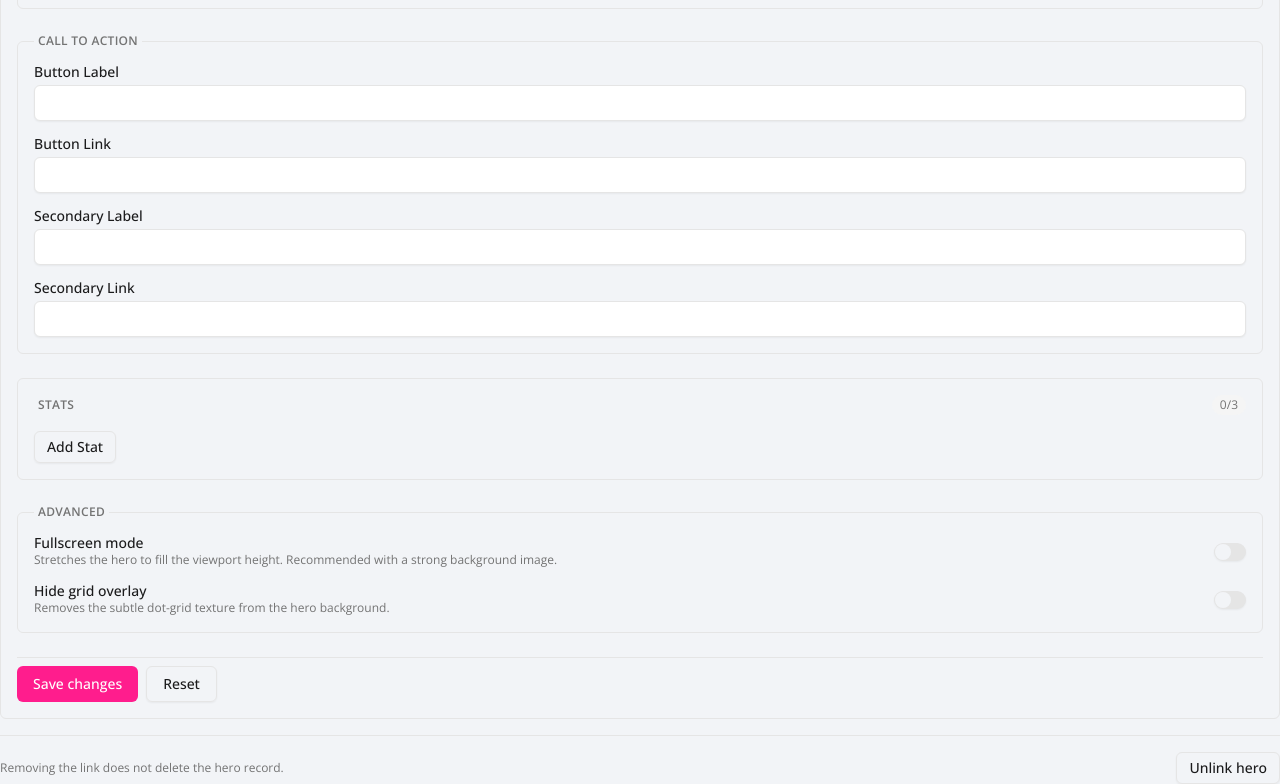
HeroPicker — when a hero is already linked › after unlinking, shows empty state
(page scrolled)
Click the button "Unlink hero": x=1228, y=768 [1176, 752, 1279, 783]
(page scrolled)
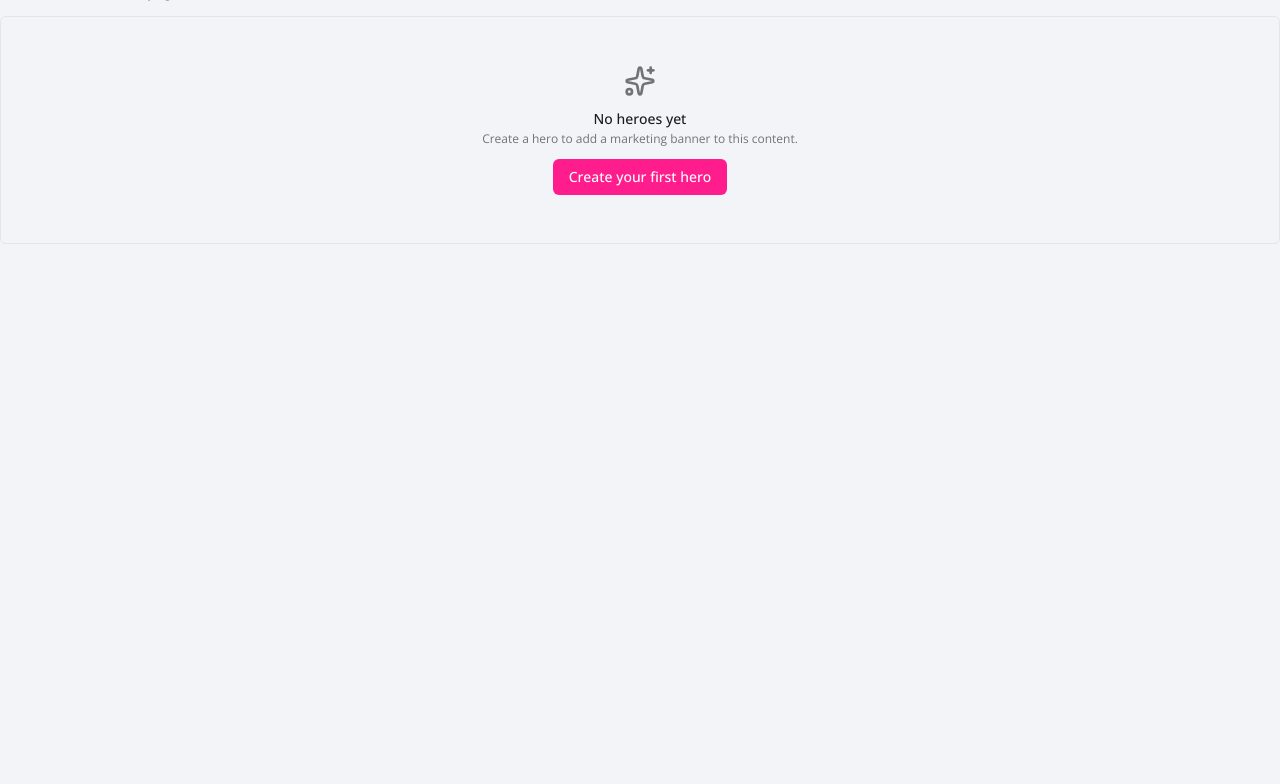
Now the text "No heroes yet" is shown, box [594, 109, 686, 128]
